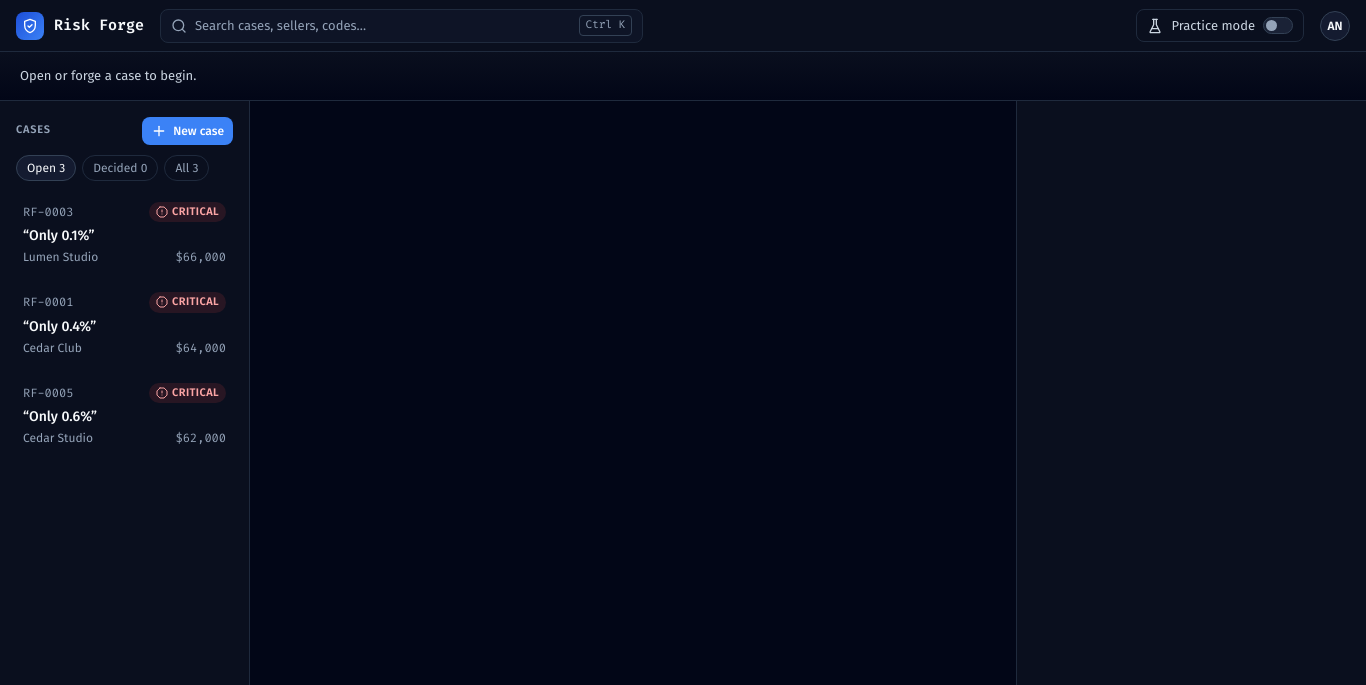
console shell › opens a case into the hash and shows its header
Click the text "RF-0001" at (48, 302), box [23,293,73,311]
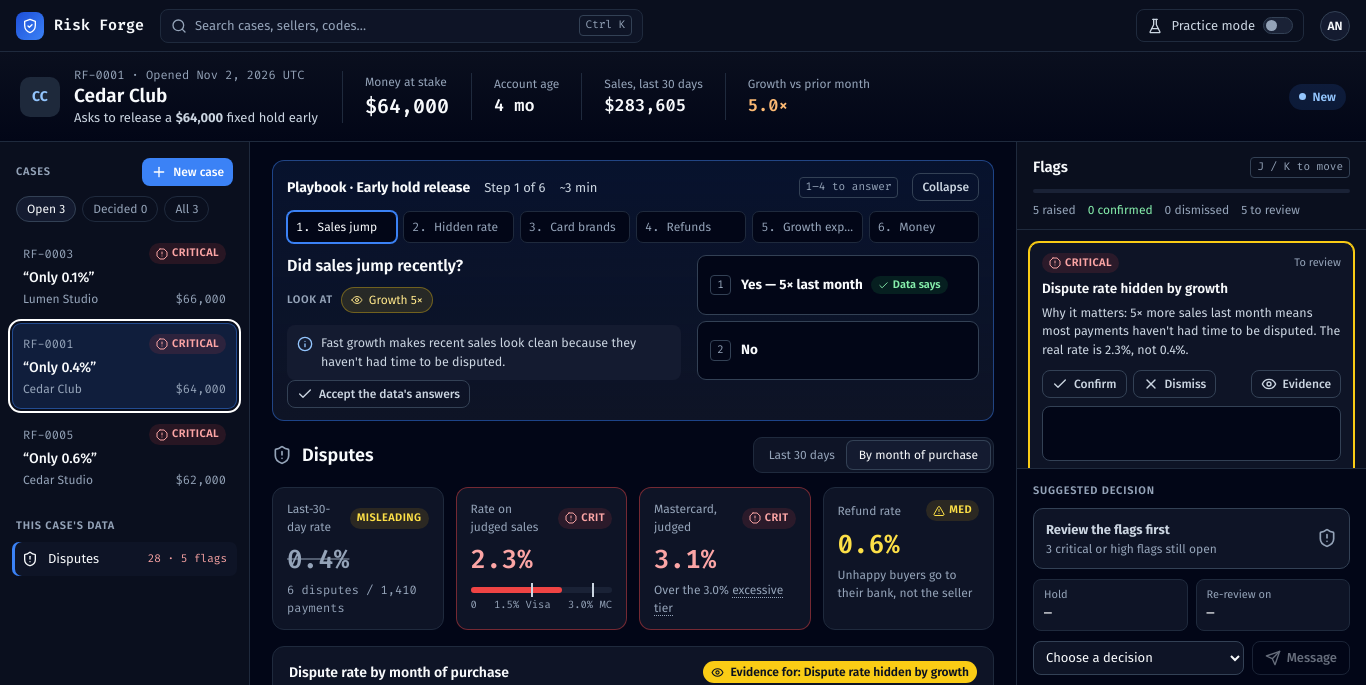
Result: the text "$64,000" below "Money at stake" is shown at [365,93,449,119]
Result: the text "New" is shown at [1290,84,1346,110]
